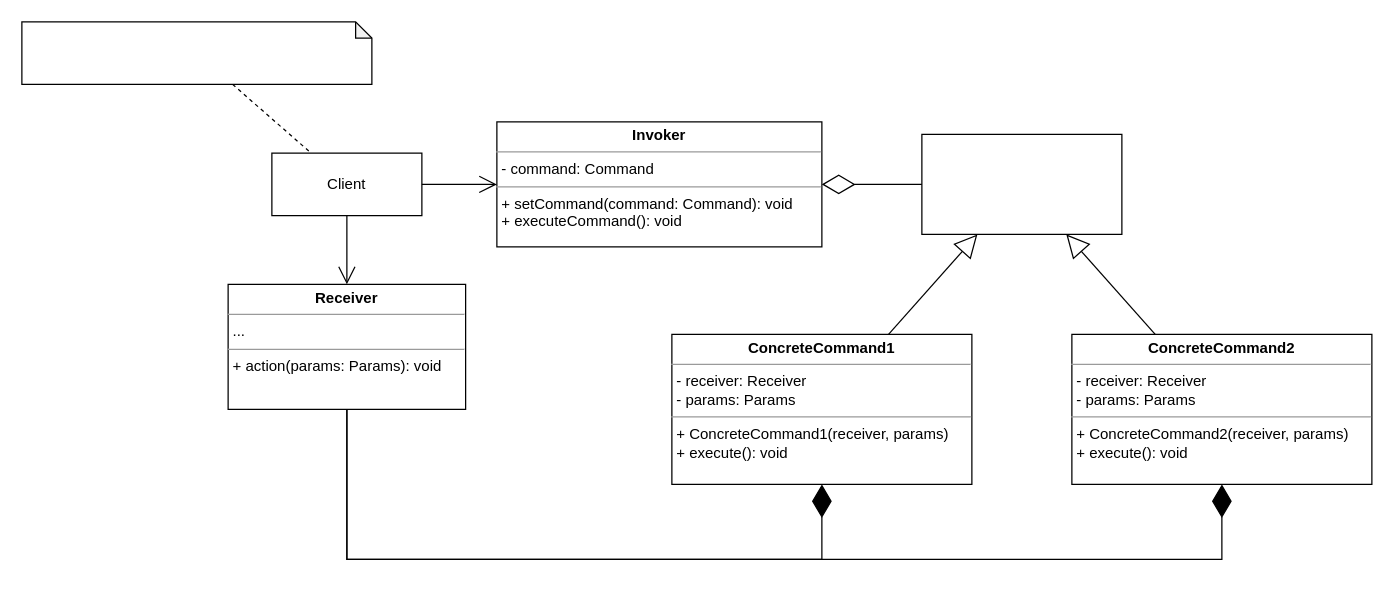
The diagram is 1394 pixels wide and 614 high, and some of its shapes have lost their labels. Each missing label, with the centre of its shape:
<<Interface>> Command + execute(): void: (x=1021, y=183)
command = new InsertCommand(textEditor, ...); button.setCommand(command);: (x=196, y=52)
